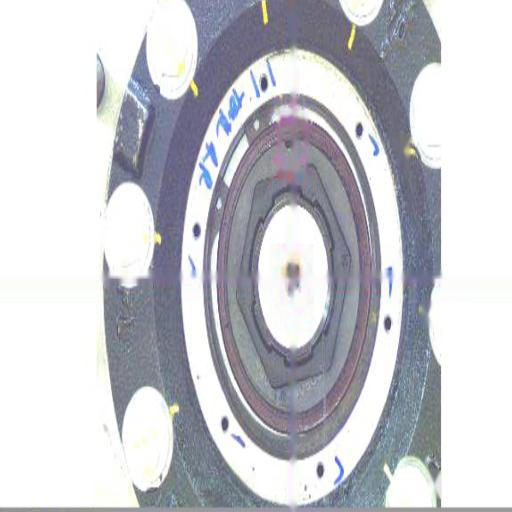center: (278, 262, 304, 297)
notch: (280, 134, 302, 156)
